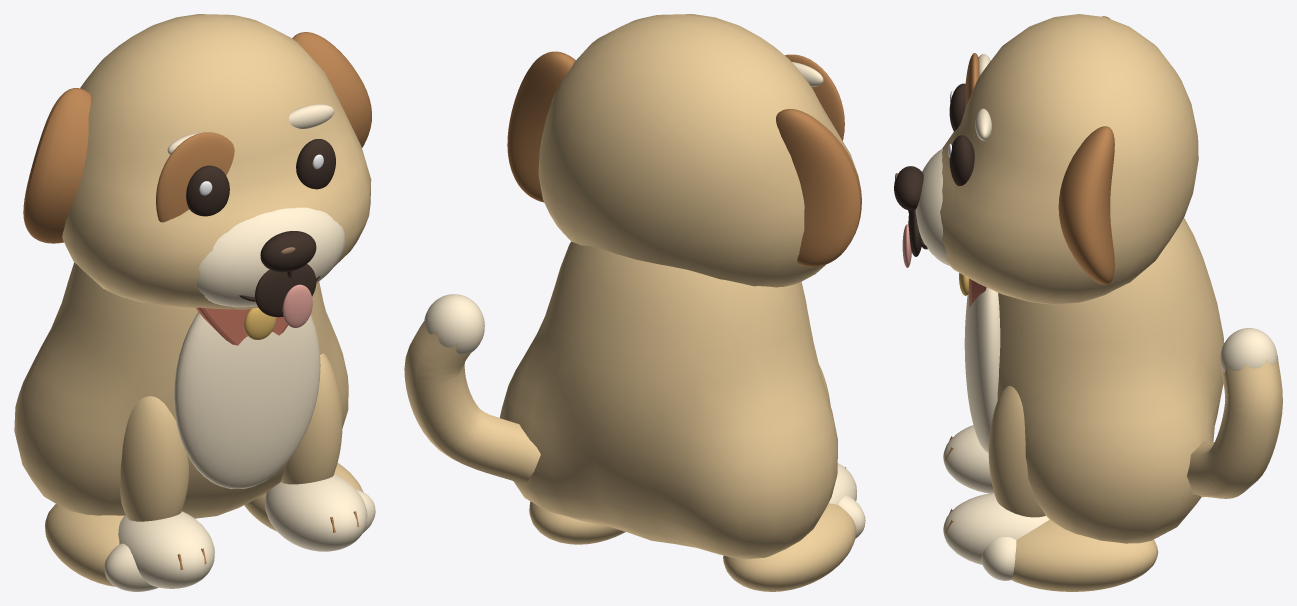
File: sunny-puppy.glb
3 renders of one model, left to right at view 1: azimuth 30°, elevation 25°; view 2: azimuth 150°, elevation 25°; view 3: azimuth 270°, elevation 25°, orthographic. The views are drawn at different scales.
Visible parts, largest first — view 1: Puppy_Head, Puppy_Plump_Body, Cream_Chest, Cream_Forepaw (×2), Foreleg (×2), Floppy_Ear (×2), Cream_Muzzle, Hind_Paw (×2), Honey_Eye_Patch, Warm_Brown_Eye (×2), Happy_Mouth, Velvet_Nose (+5 smaller); view 2: Puppy_Plump_Body, Puppy_Head, Floppy_Ear (×2), Wagging_Tail, Hind_Paw (×2), Cream_Tail_Tip, Honey_Eye_Patch, Cream_Forepaw; view 3: Puppy_Head, Puppy_Plump_Body, Wagging_Tail, Hind_Paw, Floppy_Ear, Cream_Forepaw (×2), Cream_Chest, Foreleg, Cream_Muzzle, Cream_Tail_Tip, Warm_Brown_Eye (×2), Cream_Hind_Toes (+1 smaller).
Part boxes in pixels (x1,y1,x2,y2): Puppy_Head: (62, 14, 371, 309); Puppy_Plump_Body: (14, 262, 348, 518); Cream_Chest: (174, 312, 320, 488); Cream_Forepaw (×2): (118, 474, 367, 588); Foreleg (×2): (120, 353, 342, 521); Floppy_Ear (×2): (23, 32, 371, 243); Cream_Muzzle: (196, 207, 345, 307); Hind_Paw (×2): (45, 463, 363, 586); Honey_Eye_Patch: (156, 132, 234, 222); Warm_Brown_Eye (×2): (186, 139, 335, 216); Happy_Mouth: (255, 264, 316, 317); Velvet_Nose: (260, 231, 316, 272); Puppy_Plump_Body: (499, 241, 837, 559); Puppy_Head: (538, 14, 859, 287); Floppy_Ear (×2): (507, 51, 861, 267); Wagging_Tail: (404, 319, 540, 484); Hind_Paw (×2): (529, 501, 856, 591); Cream_Tail_Tip: (424, 294, 484, 354); Honey_Eye_Patch: (785, 54, 844, 140); Cream_Forepaw: (829, 463, 856, 504); Puppy_Head: (940, 14, 1198, 304); Puppy_Plump_Body: (997, 218, 1224, 543); Wagging_Tail: (1187, 356, 1282, 498); Hind_Paw: (1012, 519, 1158, 591); Floppy_Ear: (1058, 126, 1114, 284); Cream_Forepaw (×2): (943, 425, 1049, 564); Cream_Chest: (964, 287, 1000, 452); Foreleg: (988, 386, 1045, 517); Cream_Muzzle: (915, 148, 950, 266); Cream_Tail_Tip: (1220, 328, 1277, 372); Warm_Brown_Eye (×2): (949, 83, 974, 185); Cream_Hind_Toes: (981, 537, 1016, 580).
Bounding box in the file's own units: 0.8477 × 1.18 × 0.814.
